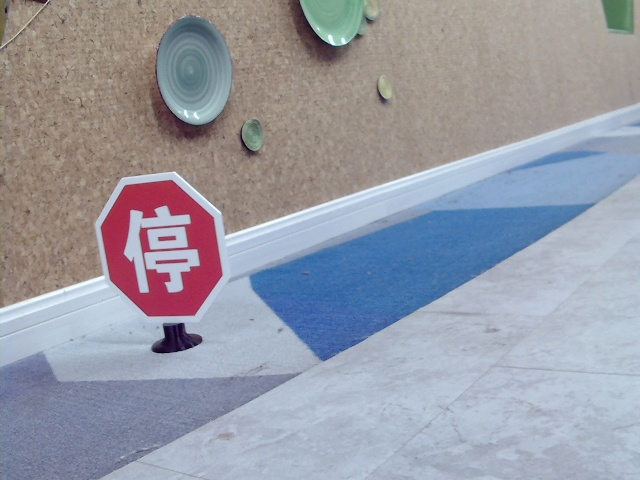stop: (117, 204, 200, 299)
